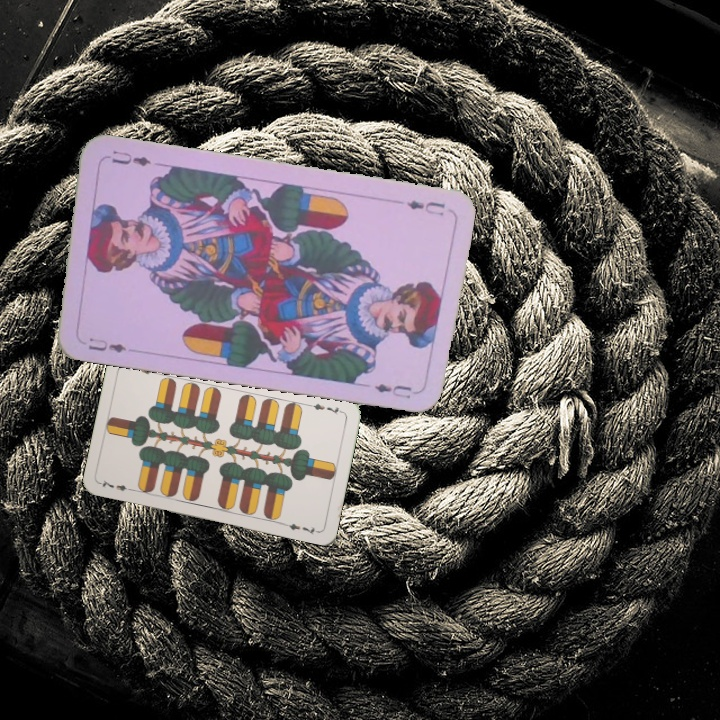E7: (306, 399, 346, 417), (97, 476, 137, 494)
EU: (403, 195, 448, 218), (84, 334, 129, 356)
